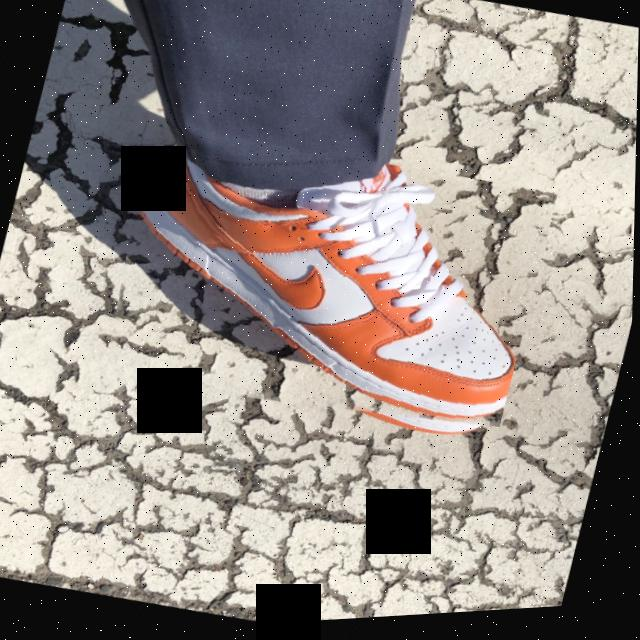shoe: (86, 105, 560, 473)
